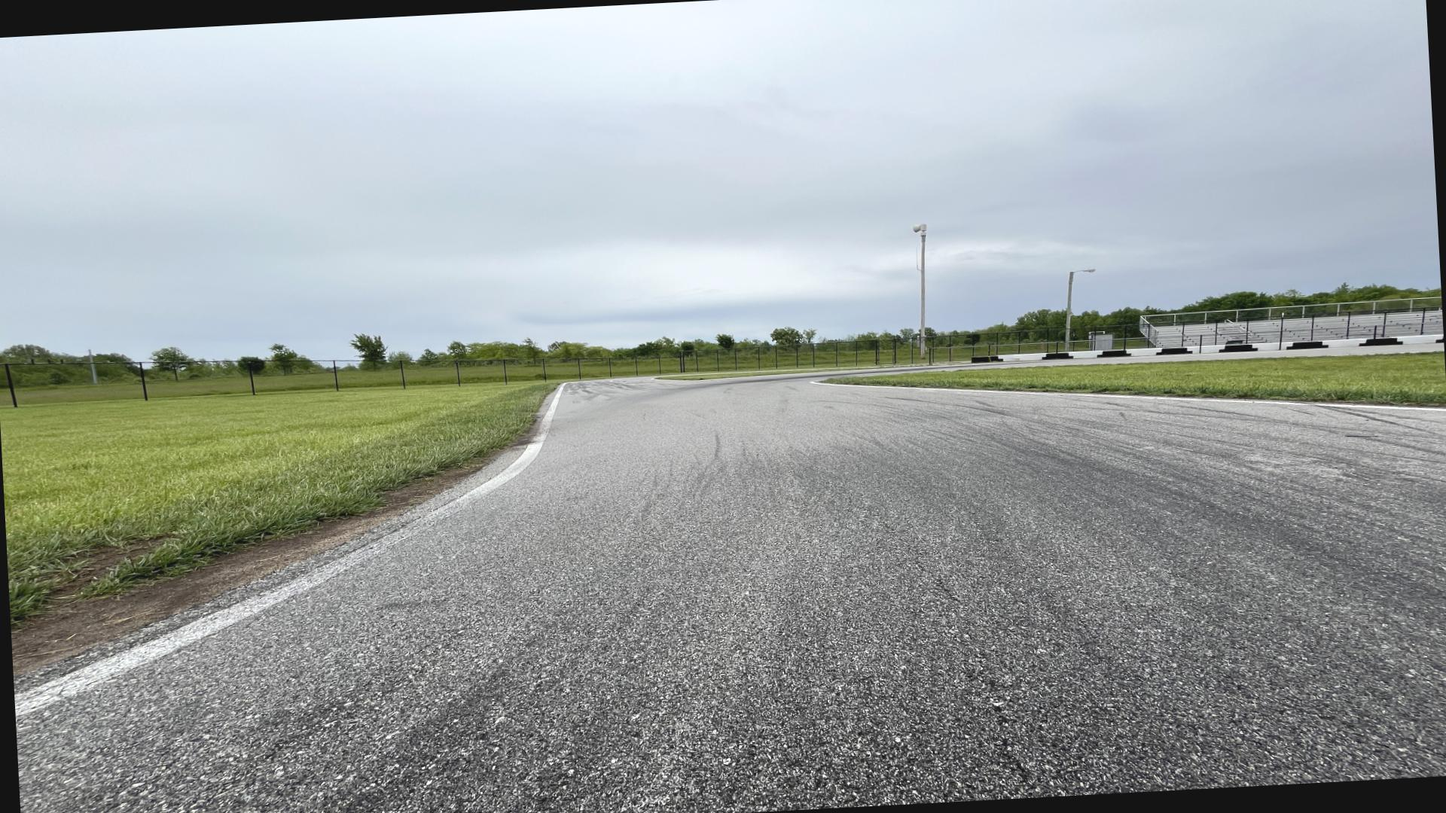white-line: (14, 382, 572, 718), (809, 382, 1445, 412), (651, 373, 795, 382), (609, 381, 635, 385)
